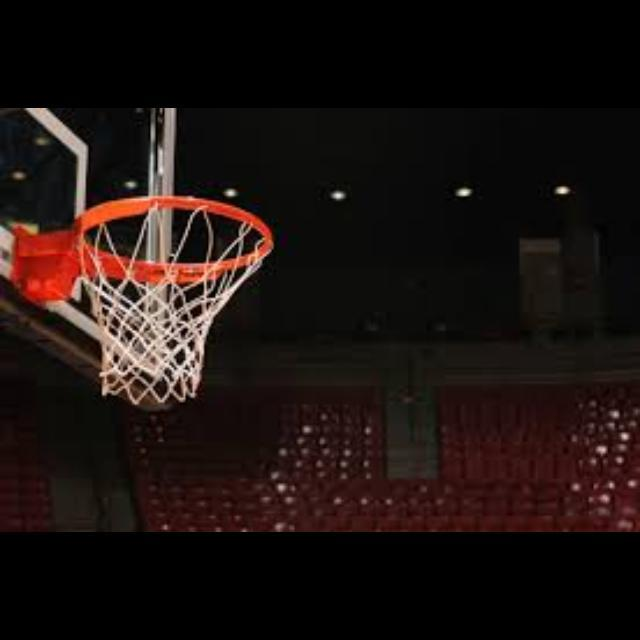rim: (78, 195, 272, 398)
